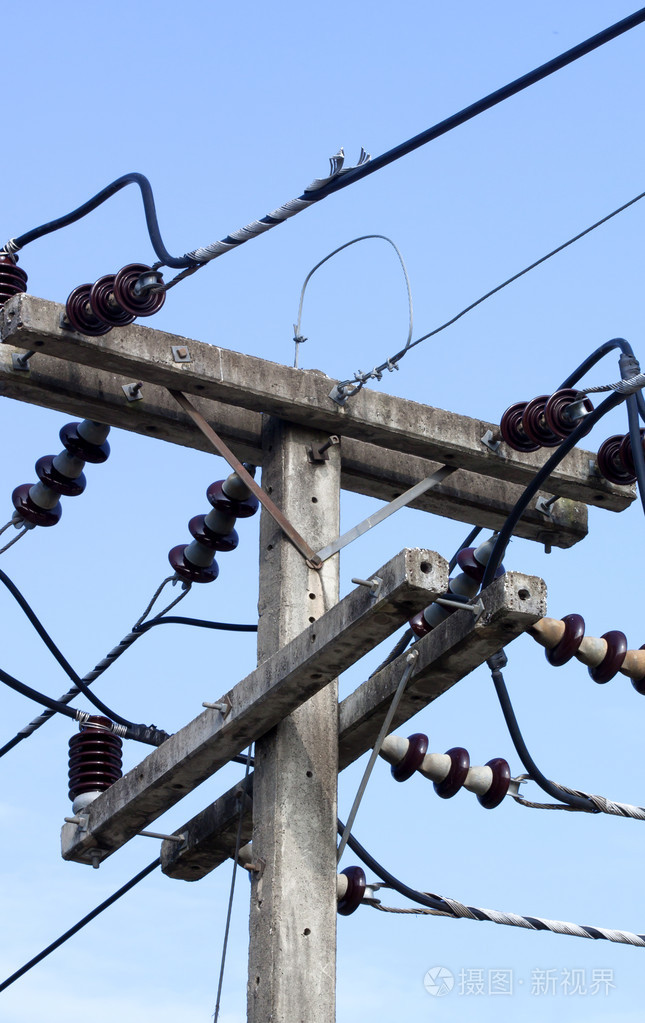insulator: (10, 424, 107, 532), (166, 475, 260, 581), (388, 735, 513, 807), (69, 262, 168, 331), (544, 612, 637, 685), (499, 385, 594, 454), (595, 435, 645, 486), (337, 862, 371, 923)
